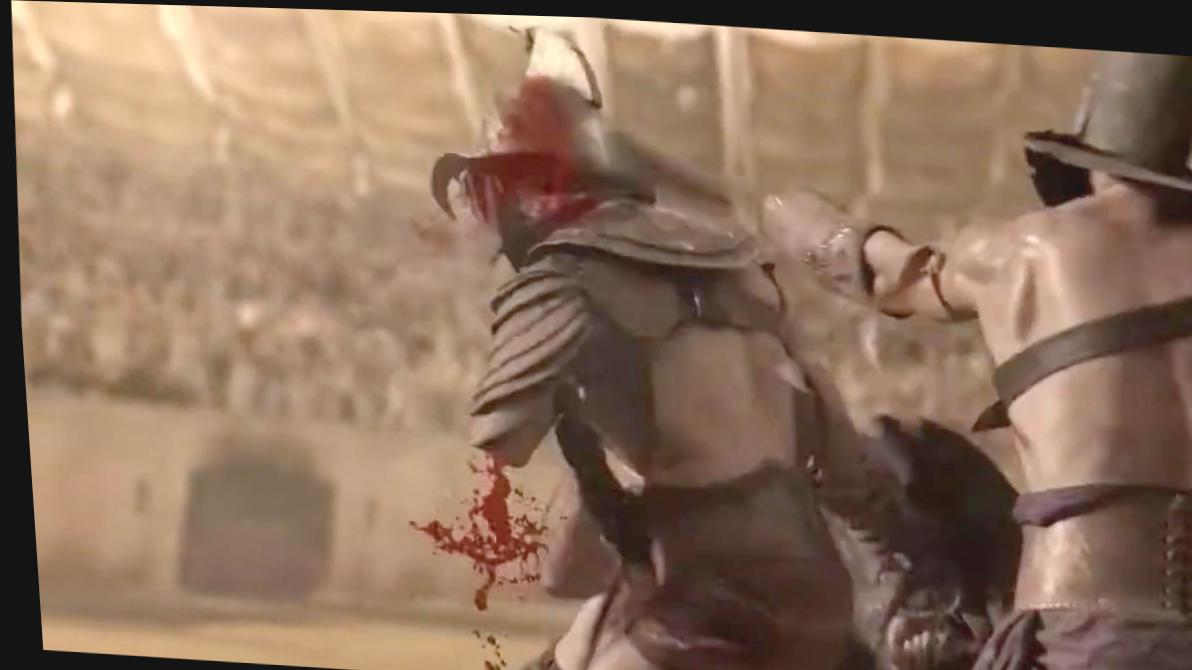Fire: (403, 455, 542, 609), (462, 625, 498, 670)
